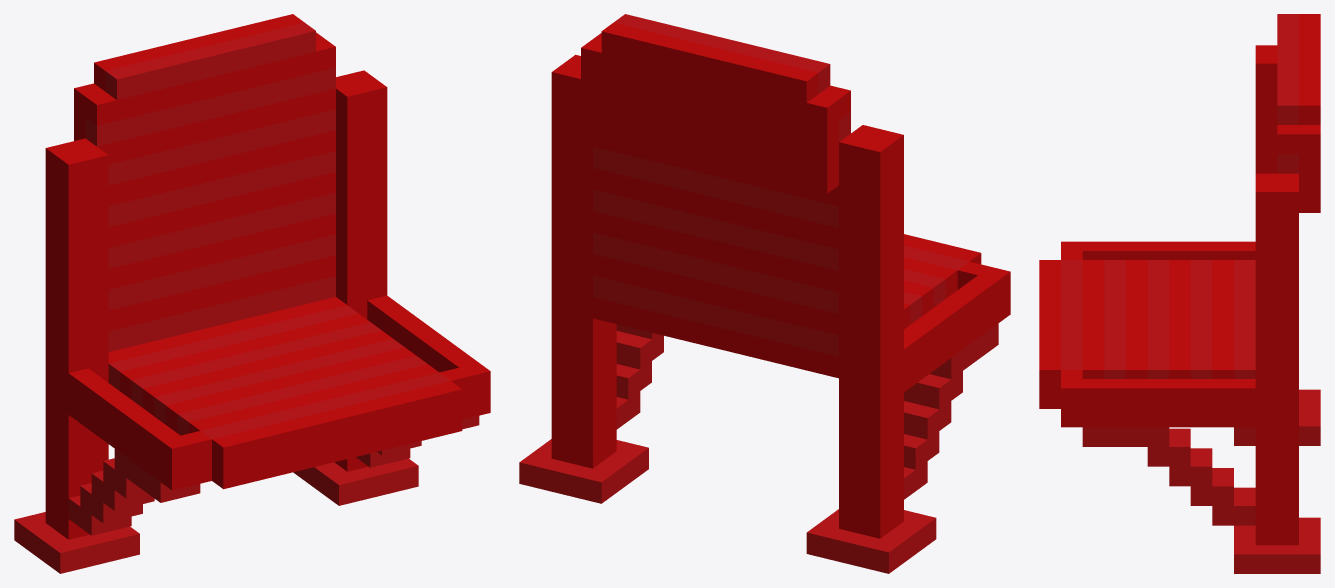
Rendered from SEAT.obj.
The picture shows the model from 3 angles, left to right: view 1: azimuth 30°, elevation 25°; view 2: azimuth 150°, elevation 25°; view 3: azimuth 270°, elevation 25°; orthographic projection. The views are drawn at different scales.
Bounding box in the file's own units: 1.8 × 2.2 × 1.3.
1 material, 1 textured.
